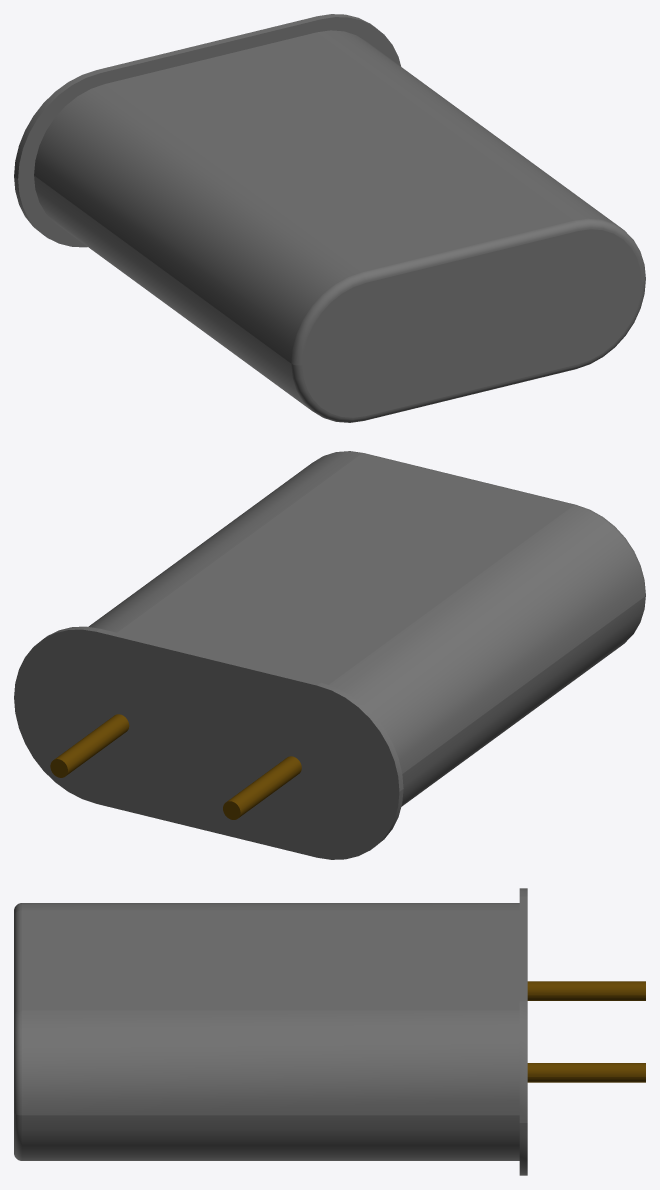
The model's file is Crystal_Crystal_HC49-U_Vertical.glb.
The picture shows the model from 3 angles, top to bottom: view 1: azimuth 30°, elevation 25°; view 2: azimuth 150°, elevation 25°; view 3: azimuth 270°, elevation 25°; orthographic projection. The views are drawn at different scales.
Size of the model in its own units: 10.9 by 4.65 by 16.
